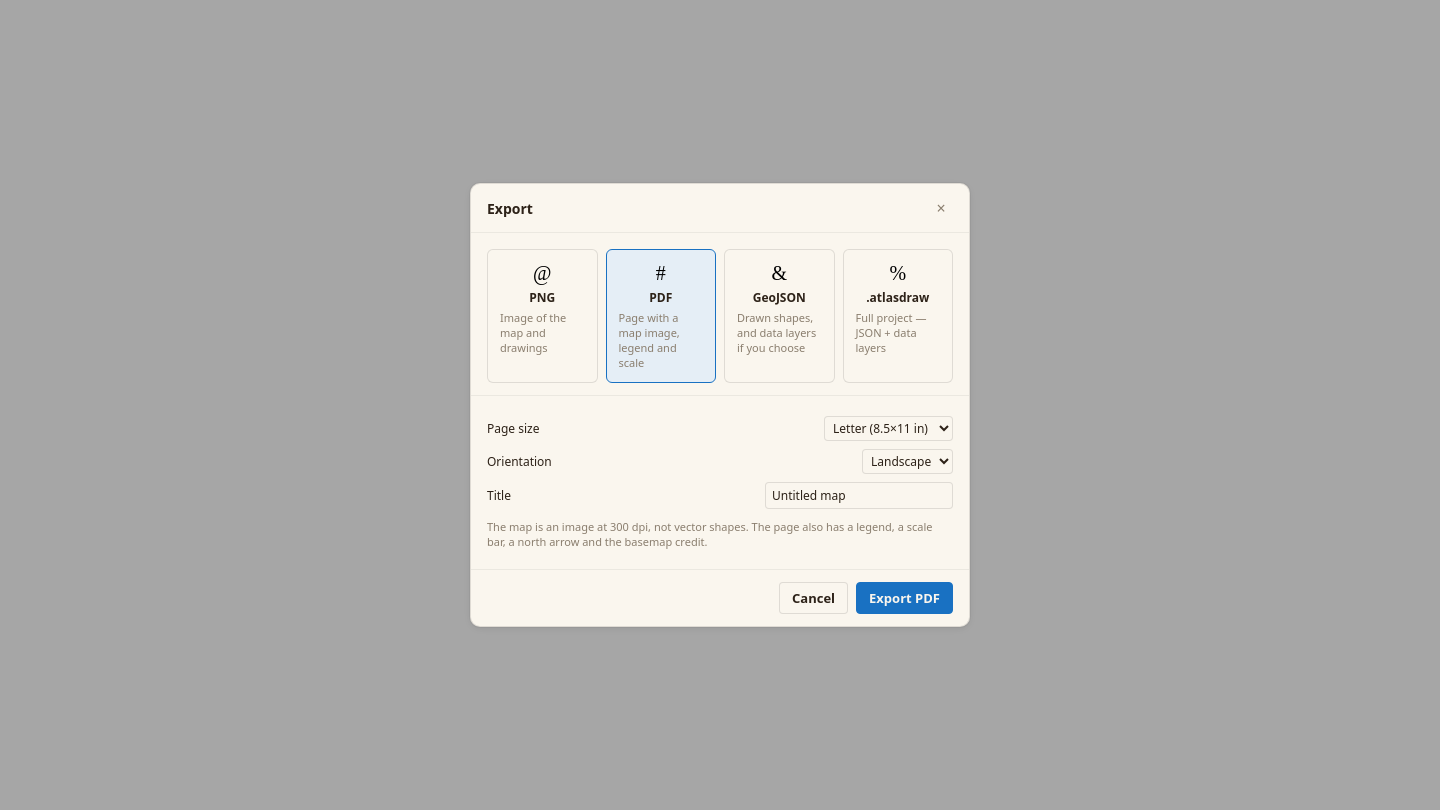
Test case: ExportDialog — PDF › surfaces an error and stays open when the map is not ready
Click the button with test id "export-dialog-export": (905, 598) [856, 582, 953, 614]
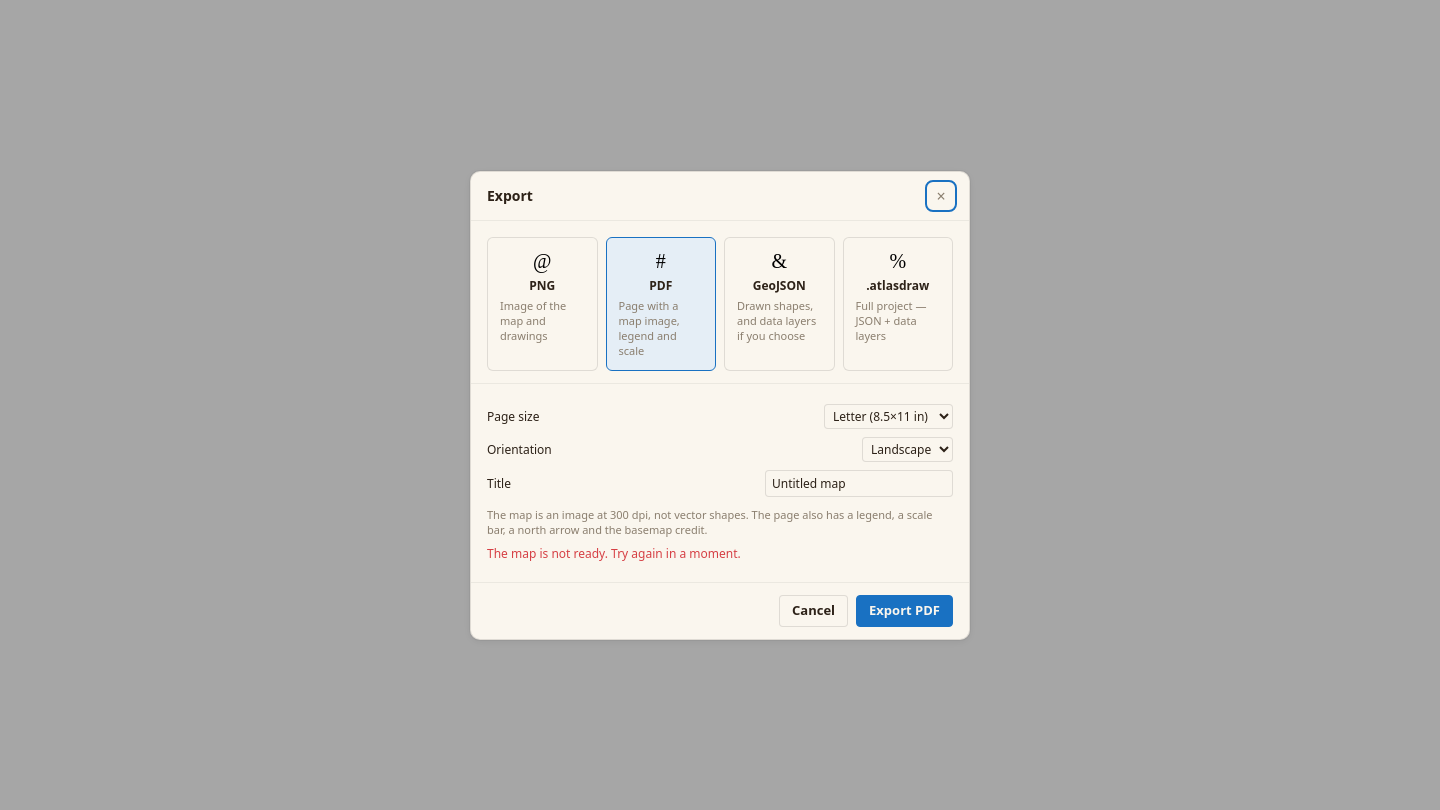
expect the message with test id "export-pdf-error" shows "not ready": met, box [487, 544, 741, 562]
